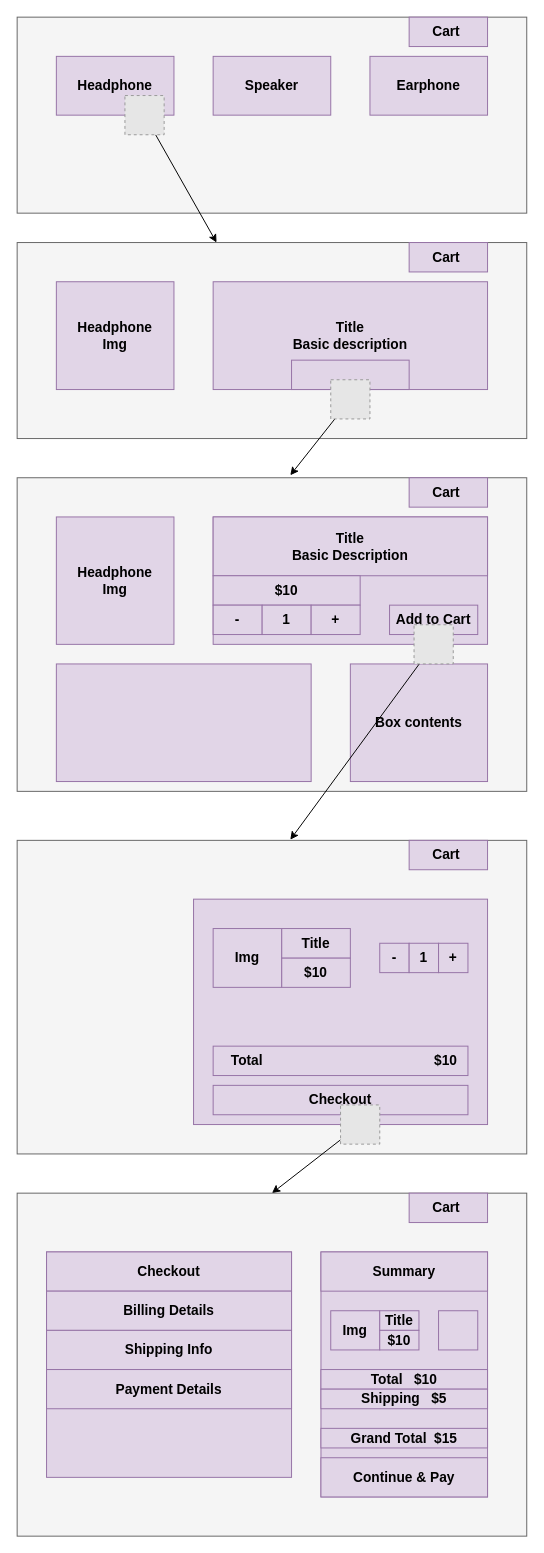
Some shapes in this 544 by 1553 pixel diagram are drawn without their labels. Grey dashed boxes stand in for pictures. The shapes that lost their labels are listed below. From the top down, each one's centre as x and y in pixels, then its label:
At pixel 350 374: "See Product".
At pixel 183 722: "Features".
At pixel 458 1330: "x1".
